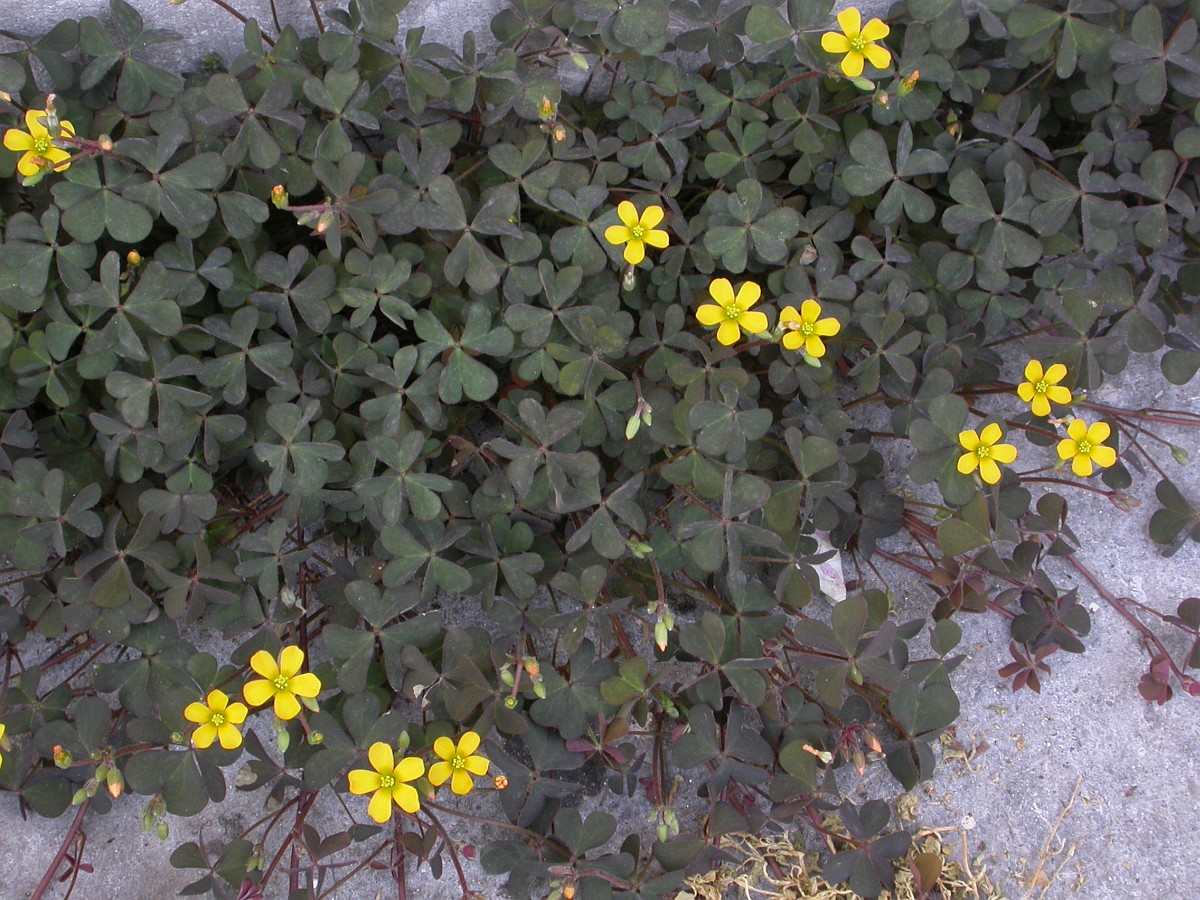oxalis: (50, 98, 1155, 801)
